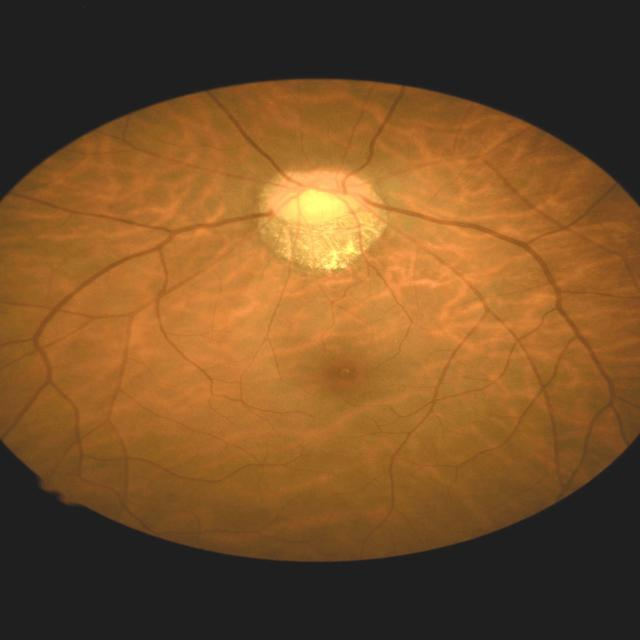cup: (276, 182, 357, 218)
disk: (264, 169, 374, 222)
